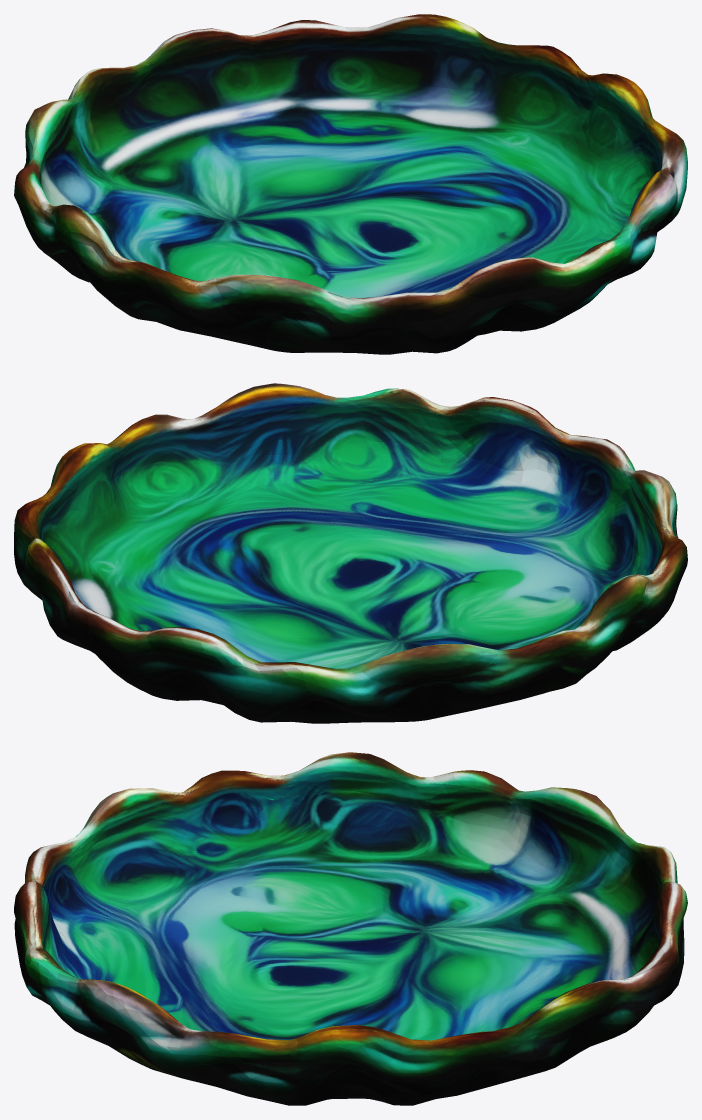
The model's file is ceramic-tray-3d.jpeg.glb.
3 views of the same model, one above another, from view 1: azimuth 30°, elevation 25°; view 2: azimuth 150°, elevation 25°; view 3: azimuth 270°, elevation 25° (orthographic). The views are drawn at different scales.
Visible parts, largest first — view 1: world; view 2: world; view 3: world.
Boxes of the visible parts, <box> form: world: <box>14,14,687,354</box>; world: <box>14,383,687,723</box>; world: <box>14,752,687,1105</box>.
Bounding box in the file's own units: 0.9997 × 0.1771 × 0.993.
1 material, 1 textured.
